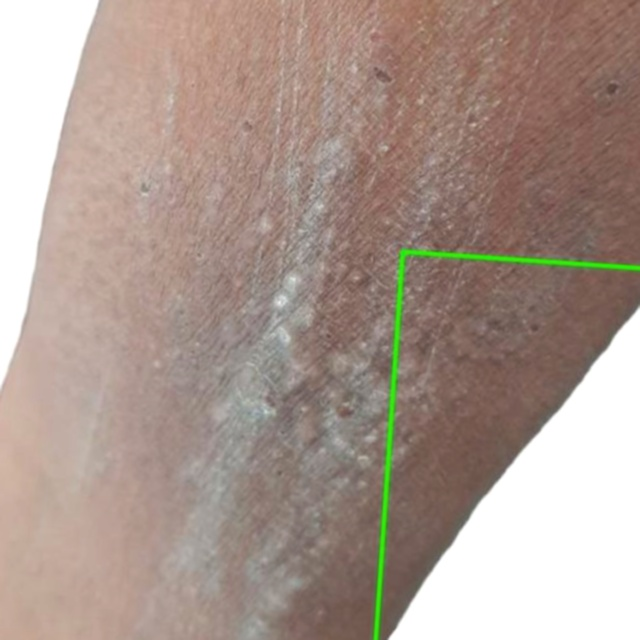Eczema: (375, 251, 639, 639)
